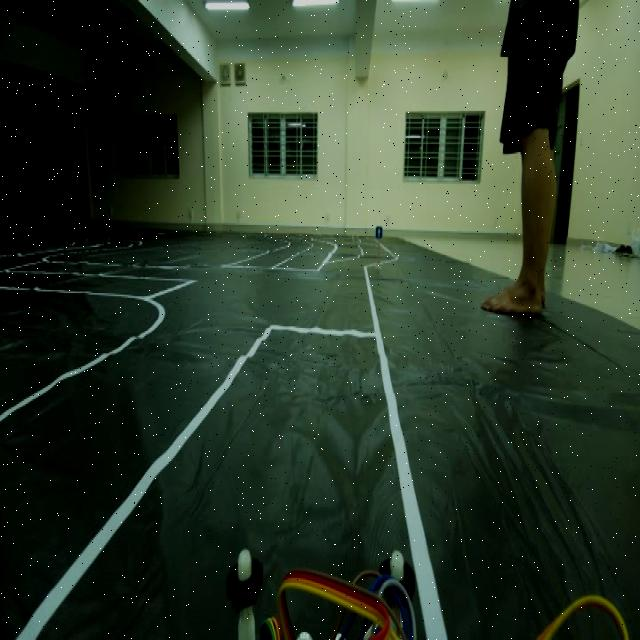onewayroad: (368, 220, 386, 242)
